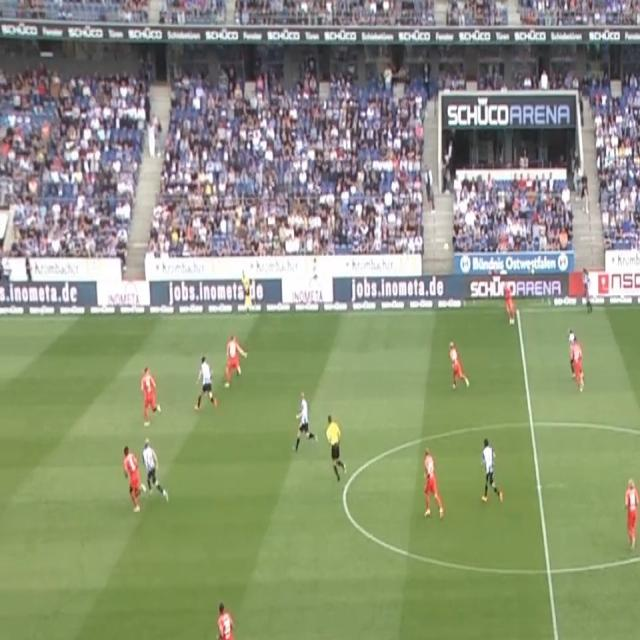ball: (443, 242, 449, 252)
